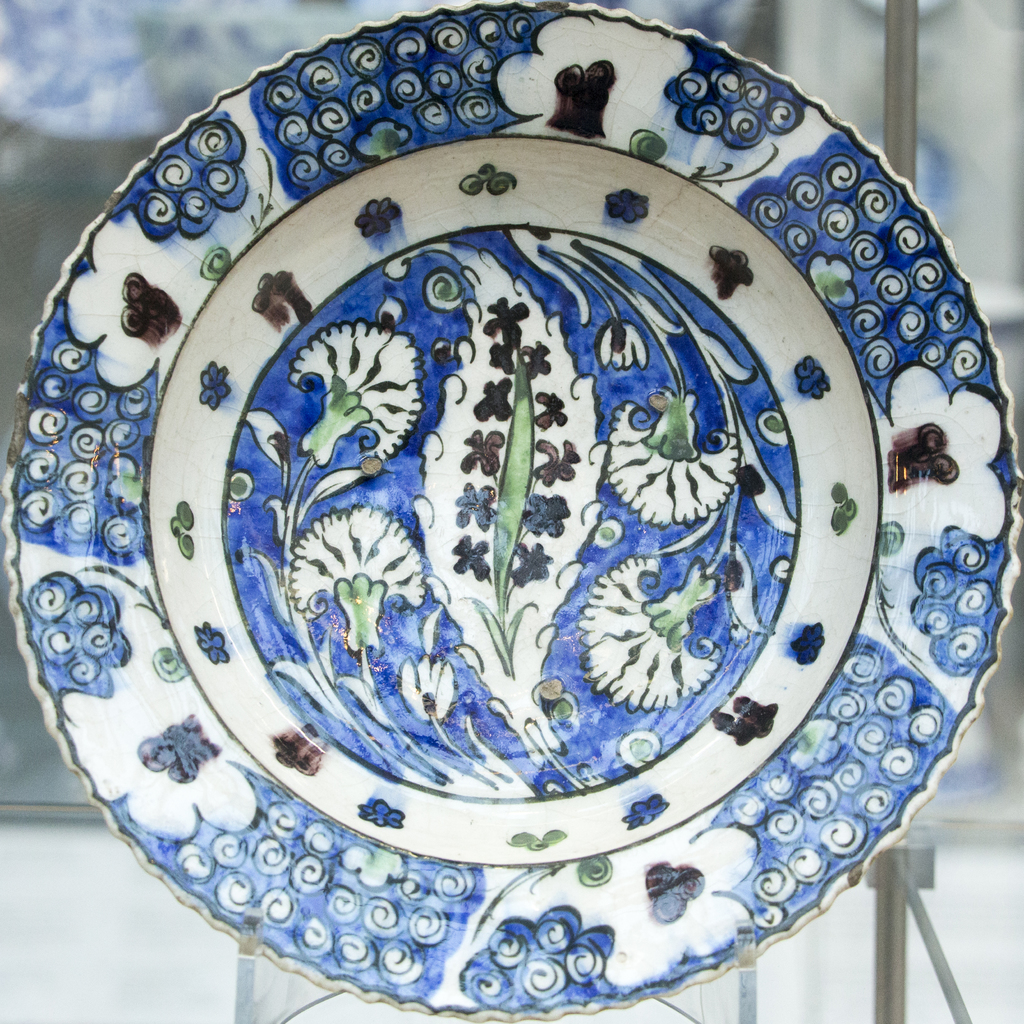plate: (16, 24, 977, 1021)
